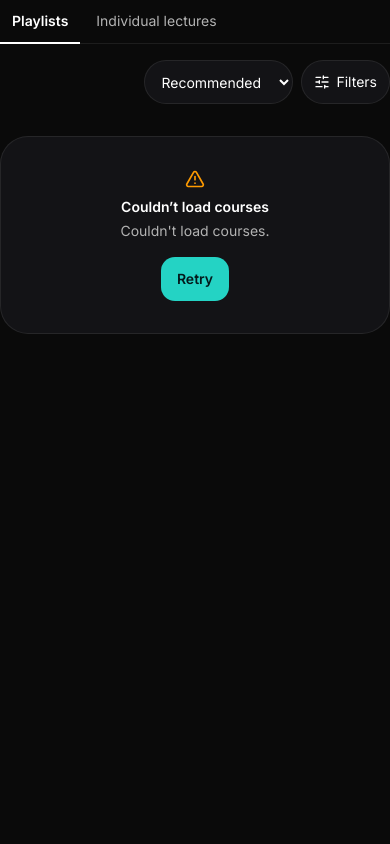
the mobile filter drawer's Show button › offers no course count when the request failed
Expected: the text "Couldn’t load courses" is shown, [121,198,269,215]
Click the button "Filters".
click(346, 82)  # box [302,60,389,104]
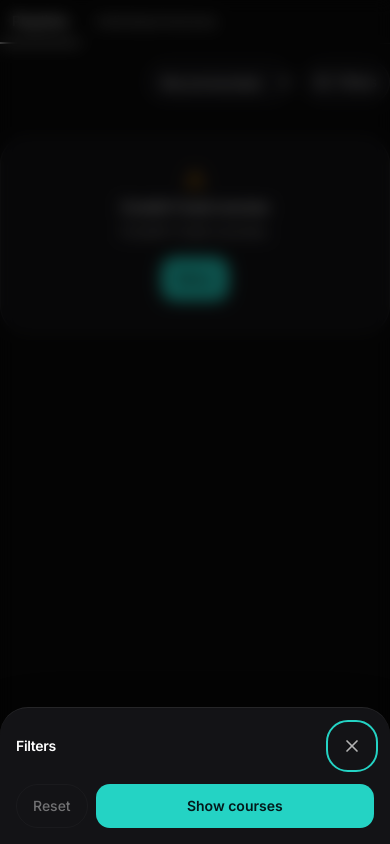
Expected: the button "Show courses" is shown, [96,784,374,828]
